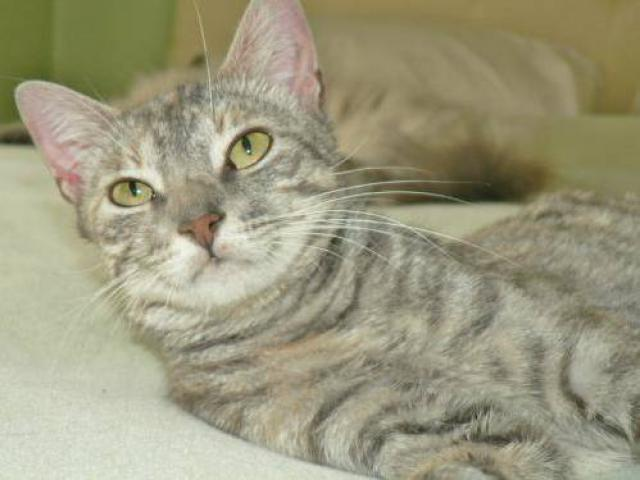cat: (31, 1, 634, 477)
